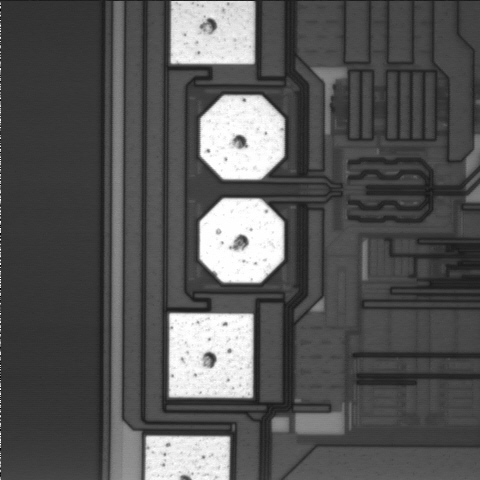pad: (200, 95, 284, 180), (200, 198, 284, 283), (169, 313, 253, 398)
